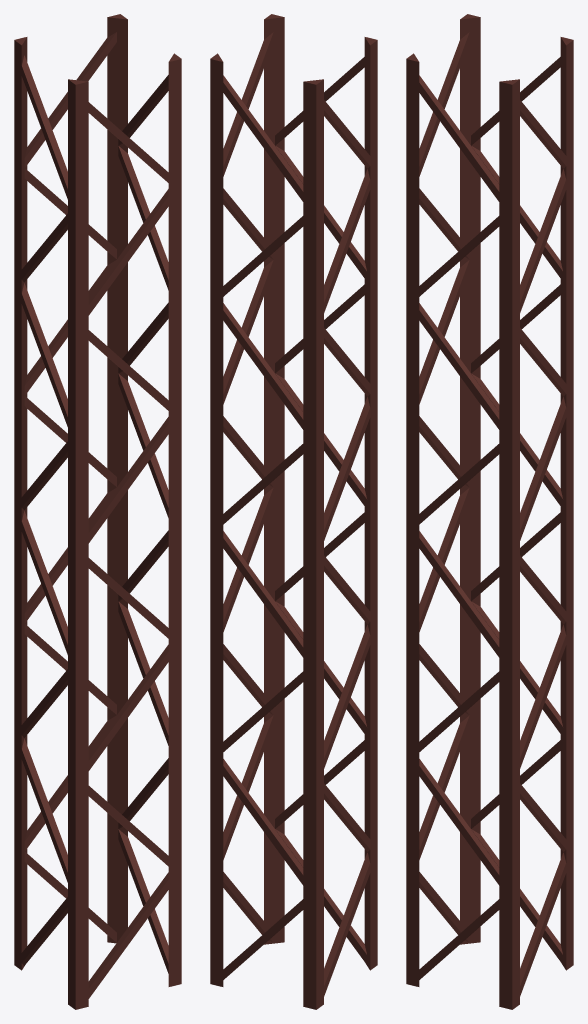
File: SupportColumn.fbx
3 views of the same model, side by side, from view 1: azimuth 30°, elevation 25°; view 2: azimuth 150°, elevation 25°; view 3: azimuth 330°, elevation 25° (orthographic).
Visible parts, largest first — view 1: Support; view 2: Support; view 3: Support.
Boxes of the visible parts, x1,y1,x2,y2 form: Support: [14, 14, 181, 1009]; Support: [210, 14, 377, 1009]; Support: [406, 14, 573, 1009].
Bounding box in the file's own units: 68.51 × 570 × 68.51.
